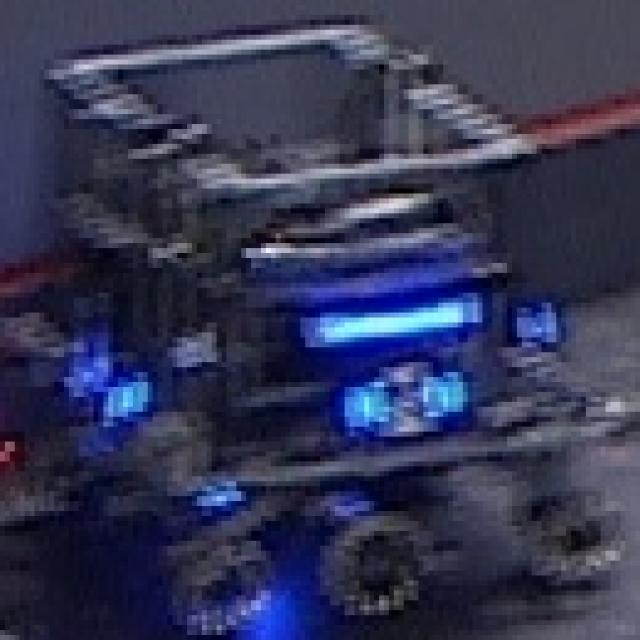B2: (340, 357, 468, 442)
